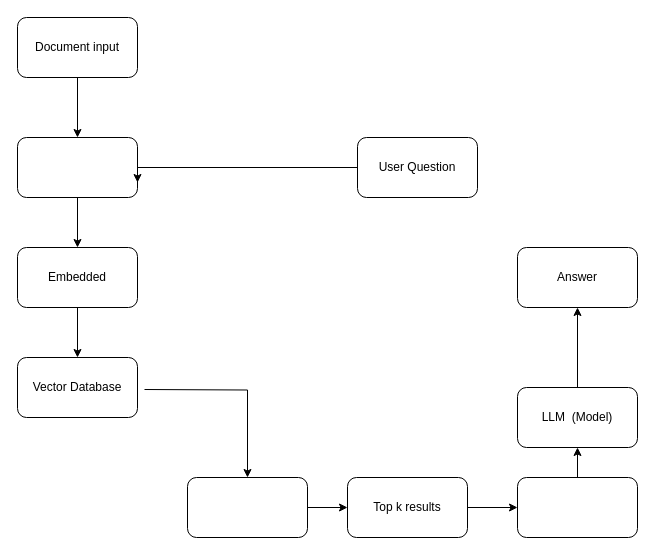
Some shapes in this 655 by 555 pixel diagram are drawn without their labels. Each missing label, with the centre of its shape:
Chunks/tokenize: [77,167]
Reranked: [577,507]
Vector search: [247,507]
